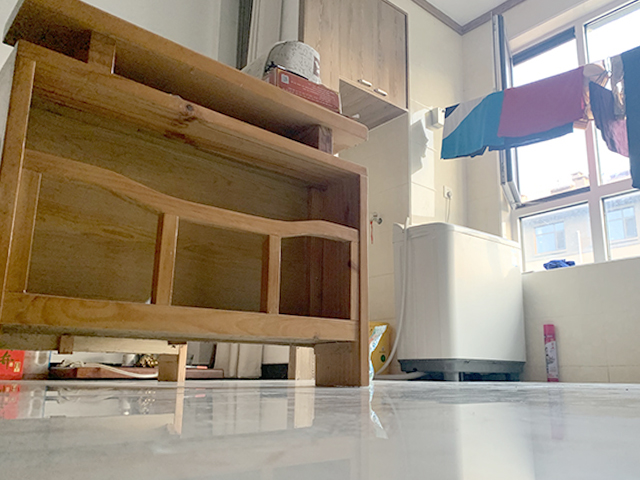sofa: (1, 1, 370, 385)
